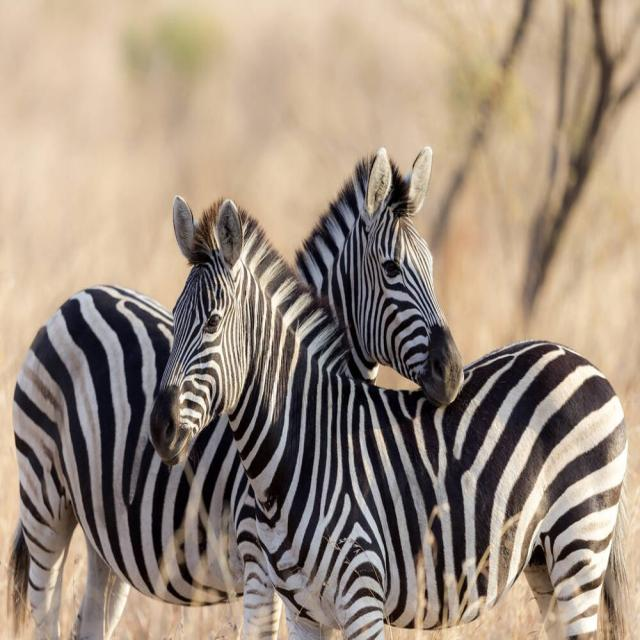Zebra: (160, 196, 622, 640), (21, 161, 449, 640)
